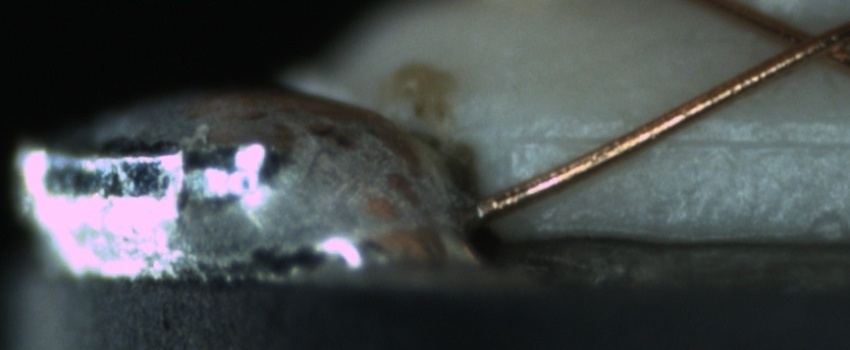CL: (761, 12, 849, 74)
DL: (521, 107, 850, 171)
